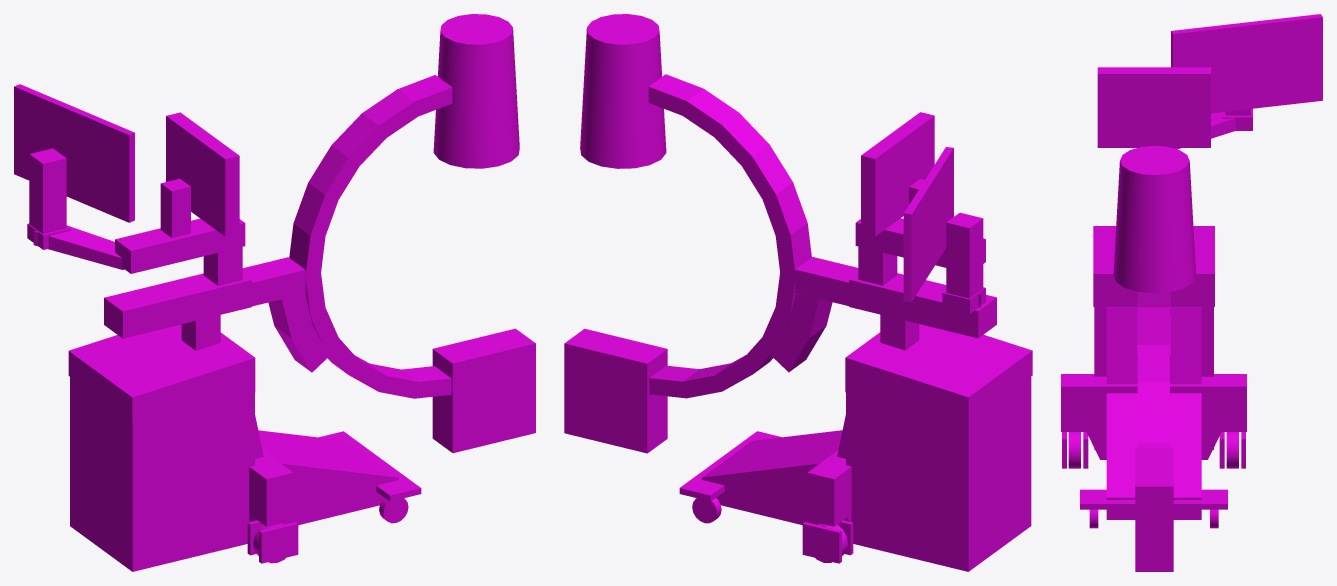
File: SM_PortableXrayCollider.fbx
3 renders of one model, left to right at view 1: azimuth 30°, elevation 25°; view 2: azimuth 150°, elevation 25°; view 3: azimuth 270°, elevation 25°, orthographic. The views are drawn at different scales.
Visible parts, largest first — view 1: PortableXrayCollision; view 2: PortableXrayCollision; view 3: PortableXrayCollision.
Boxes of the visible parts, box(x1,y1,x2,y2) form: PortableXrayCollision: box(14, 14, 535, 571); PortableXrayCollision: box(564, 14, 1032, 571); PortableXrayCollision: box(1061, 14, 1322, 571).
Bounding box in the file's own units: 185 × 173 × 97.85.
